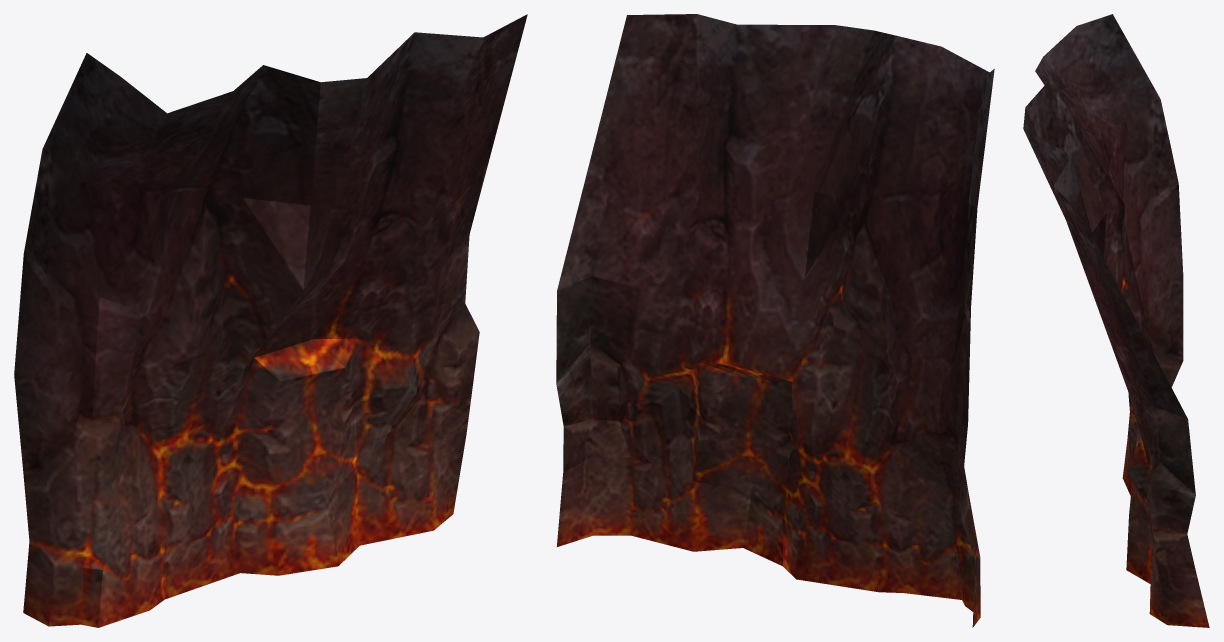
The model's file is sysd_qiang01.FBX.
3 views of the same model, side by side, from view 1: azimuth 30°, elevation 25°; view 2: azimuth 150°, elevation 25°; view 3: azimuth 270°, elevation 25° (orthographic). The views are drawn at different scales.
Visible parts, largest first — view 1: sysd_qiang01; view 2: sysd_qiang01; view 3: sysd_qiang01.
Part boxes in pixels (bbox=[...]): sysd_qiang01: bbox=[14, 14, 527, 627]; sysd_qiang01: bbox=[556, 14, 994, 627]; sysd_qiang01: bbox=[1023, 14, 1209, 627].
Size of the model in its own units: 1544 by 1894 by 697.
Materials: 1 (1 with a texture image).
